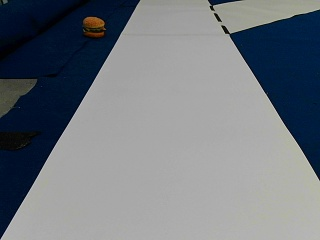burger: (82, 14, 105, 38)
